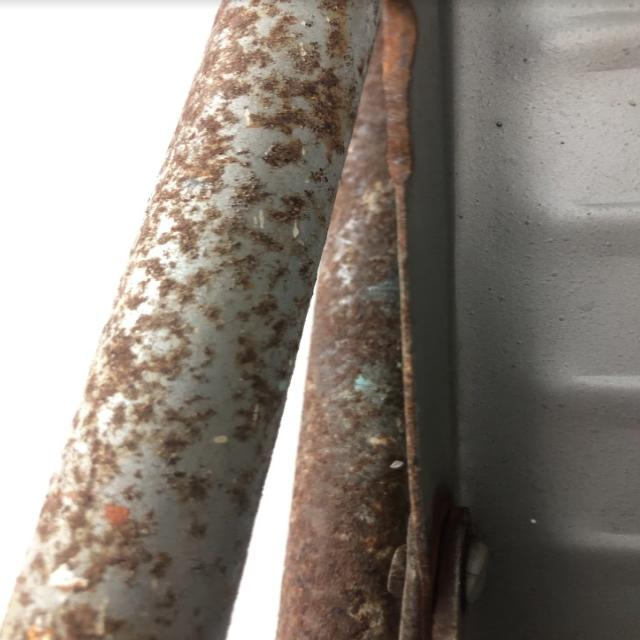corrosion: (0, 0, 460, 640)
